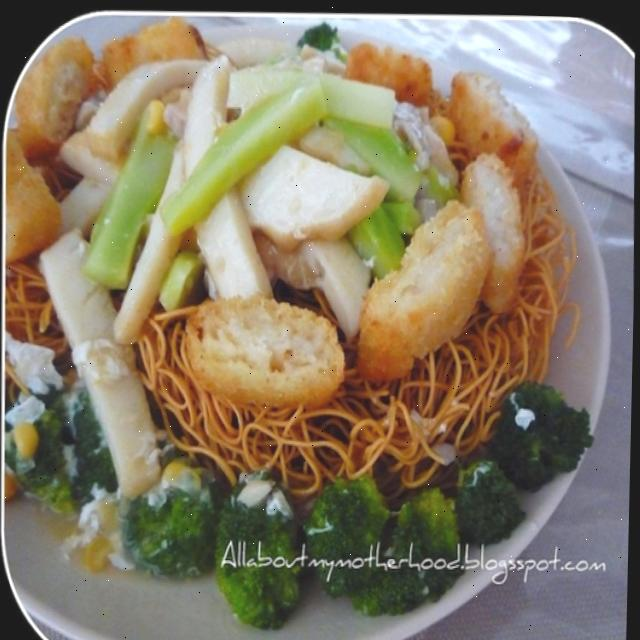面条主食: (20, 48, 610, 571)
